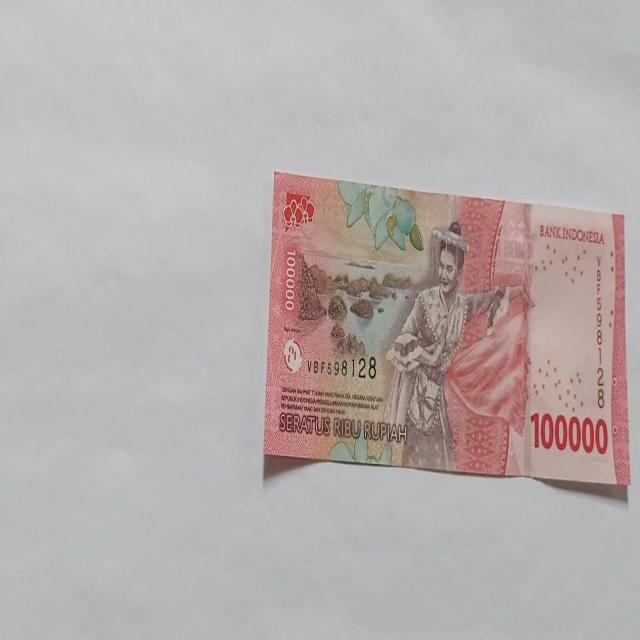Kertas: (263, 170, 629, 489), (530, 410, 608, 456)
